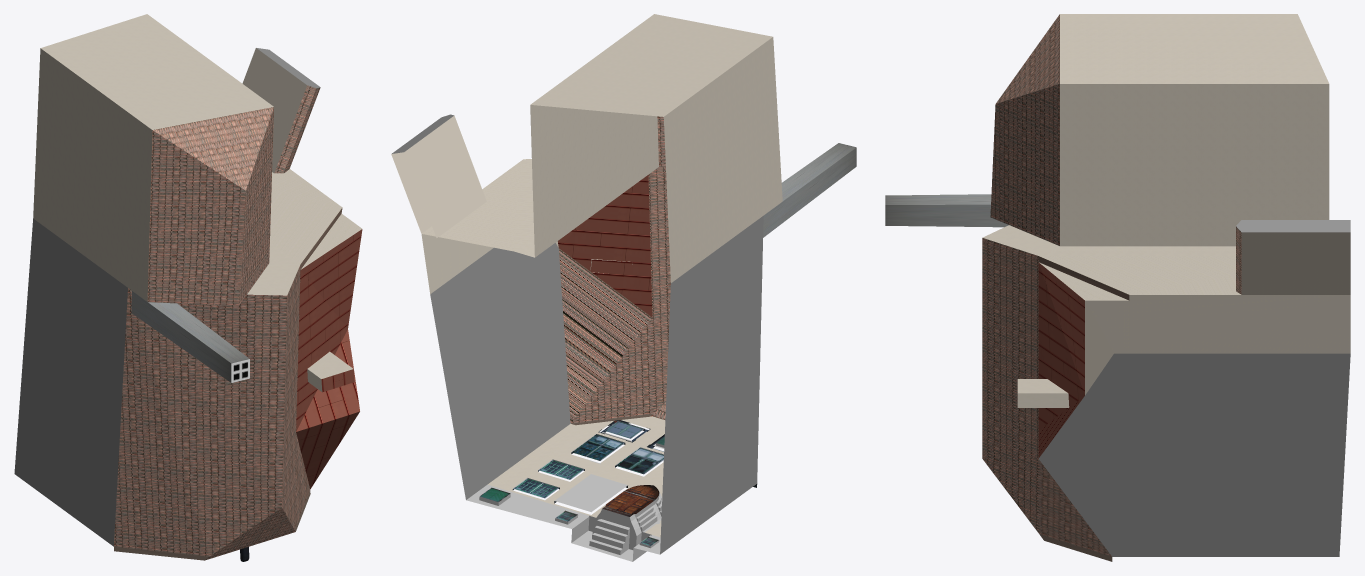
File: Kuninga-6.obj
The picture shows the model from 3 angles, left to right: view 1: azimuth 30°, elevation 25°; view 2: azimuth 150°, elevation 25°; view 3: azimuth 270°, elevation 25°; orthographic projection. The views are drawn at different scales.
Parts seen in each view (by area): view 1: Kuninga_6; view 2: Kuninga_6; view 3: Kuninga_6.
Part boxes in pixels (x1,y1,x2,y2): Kuninga_6: (14, 14, 362, 561); Kuninga_6: (391, 14, 856, 561); Kuninga_6: (885, 14, 1350, 561).
Bounding box in the file's own units: 13.3 × 21.57 × 19.05.
